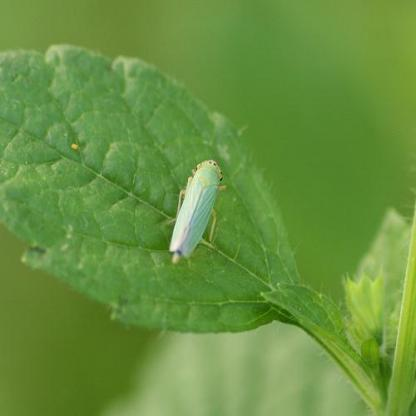Green-Leafhopper: (170, 157, 228, 266)
